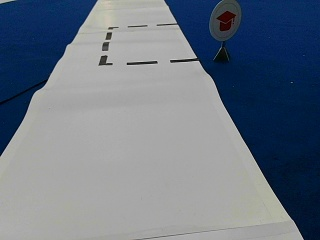school: (208, 1, 240, 39)
